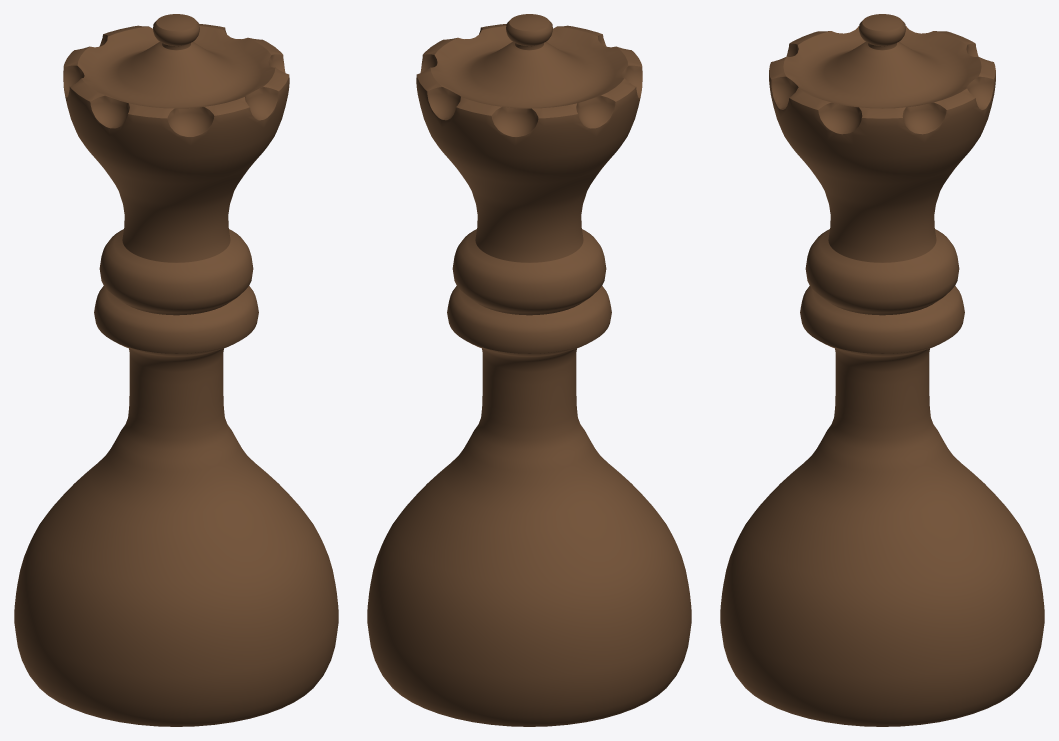
Rendered from black-queen.glb.
3 views of the same model, side by side, from view 1: azimuth 30°, elevation 25°; view 2: azimuth 150°, elevation 25°; view 3: azimuth 270°, elevation 25° (orthographic).
Visible parts, largest first — view 1: black-queen.001; view 2: black-queen.001; view 3: black-queen.001.
Boxes of the visible parts, x1=… form: black-queen.001: x1=14, y1=14, x2=338, y2=726; black-queen.001: x1=367, y1=14, x2=691, y2=726; black-queen.001: x1=720, y1=14, x2=1044, y2=726.
Size of the model in its own units: 0.721 by 1.58 by 0.721.
